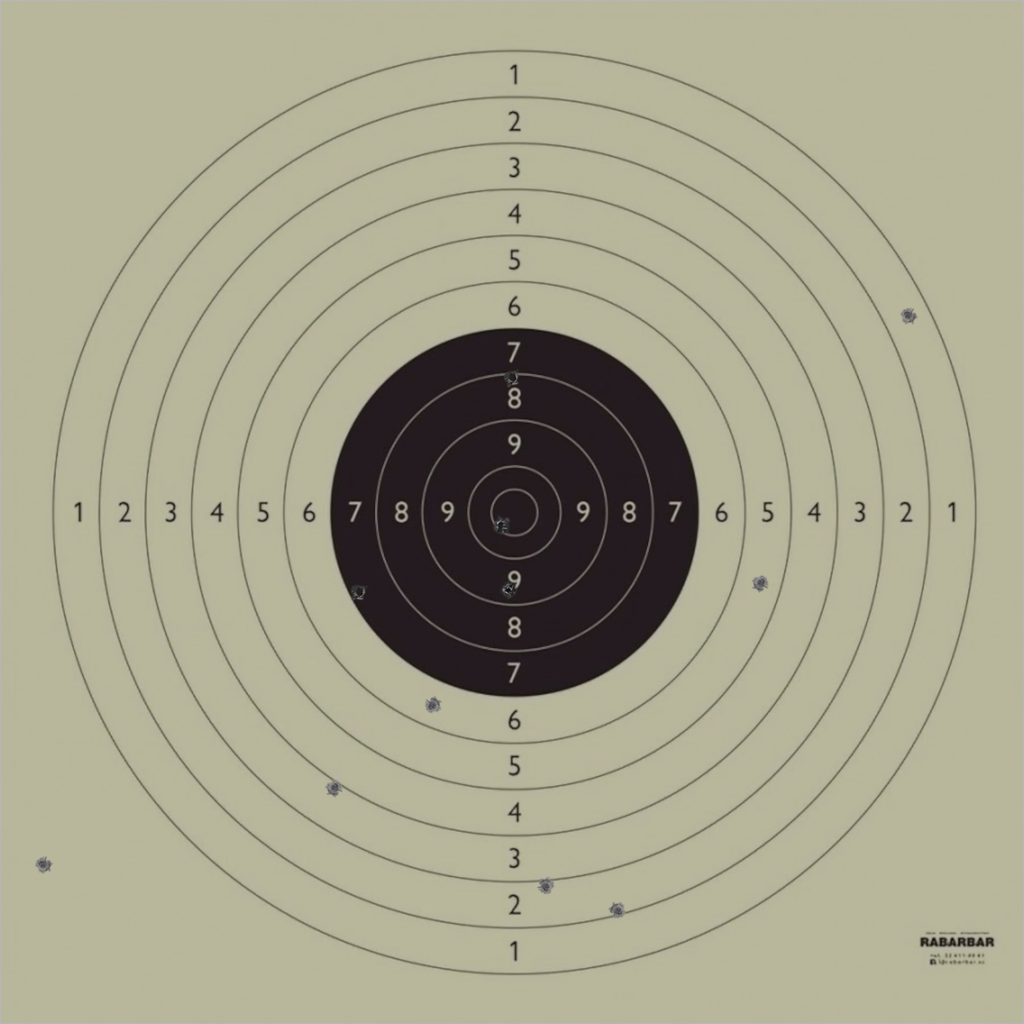0 punktow: (34, 855, 52, 874)
1 punkt: (899, 306, 917, 325)
10 punktow: (492, 516, 510, 534)
2 punkty: (609, 902, 627, 920)
3 punkty: (537, 877, 555, 896)
4 punkty: (325, 779, 344, 797)
5 punktow: (752, 574, 770, 592)
6 punktow: (423, 696, 442, 715)
7 punktow: (350, 583, 369, 602)
8 punktow: (503, 369, 522, 387)
9 punktow: (499, 581, 517, 599)
